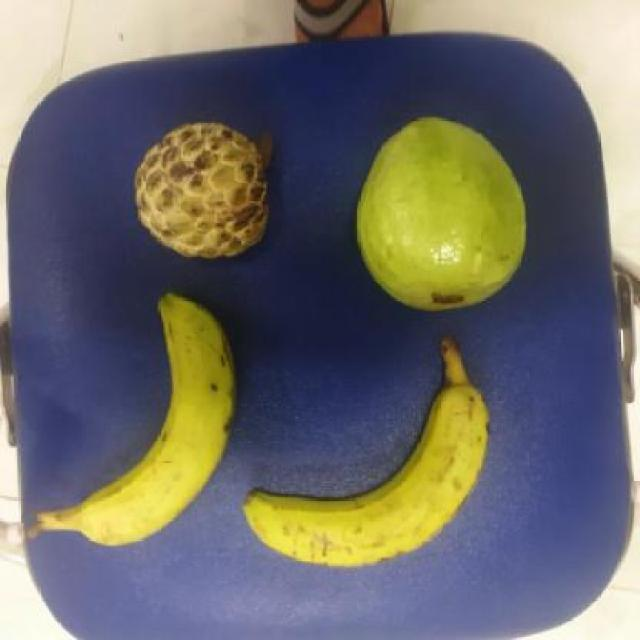banana: (236, 370, 496, 575), (66, 287, 240, 551)
guava: (353, 110, 529, 315)
sugar apple: (124, 113, 276, 269)
